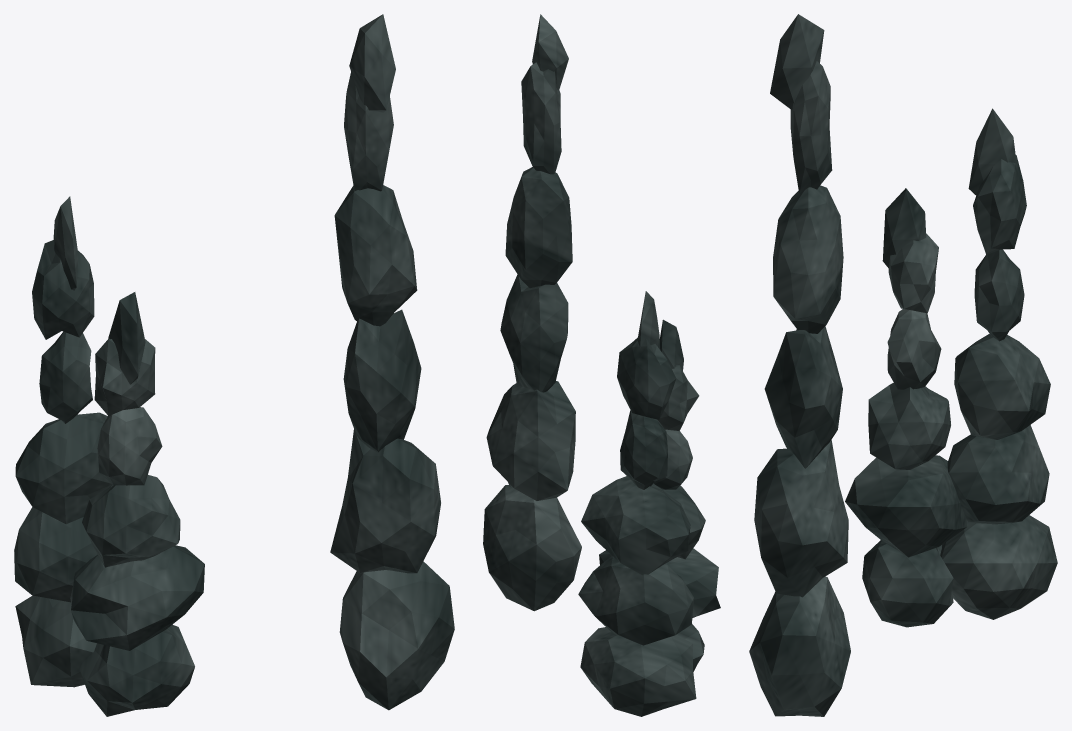
The model's file is 0057_rock_spire_07.glb.
3 views of the same model, side by side, from view 1: azimuth 30°, elevation 25°; view 2: azimuth 150°, elevation 25°; view 3: azimuth 270°, elevation 25° (orthographic). The views are drawn at different scales.
Parts seen in each view (by area): view 1: stone_dark; view 2: stone_dark; view 3: stone_dark.
Boxes of the visible parts, x1,y1,x2,y2 form: stone_dark: (14, 14, 454, 716); stone_dark: (483, 14, 720, 716); stone_dark: (749, 14, 1057, 716).
Bounding box in the file's own units: 1.63 × 3.25 × 1.3.
Materials: 1 (1 with a texture image).
